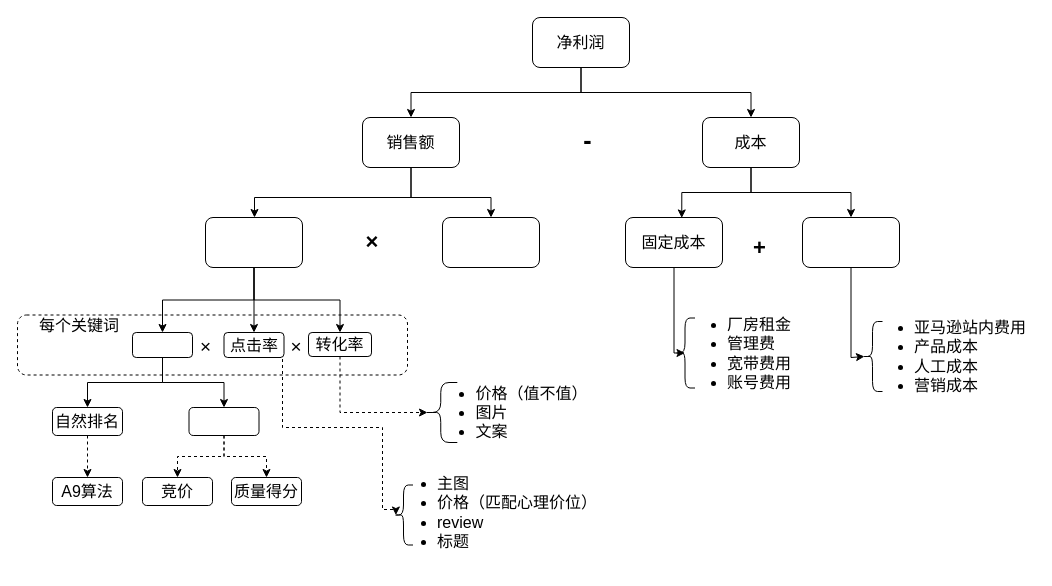
The diagram is 1052 pixels wide and 586 high, and some of its shapes have lost their labels. The centre of each missing label's shape, as x and y in pixels:
"可变成本" goes at pixel 851 242.
"售价" goes at pixel 491 242.
"展现" goes at pixel 162 345.
"广告排名" goes at pixel 223 421.
"销量" goes at pixel 253 242.
